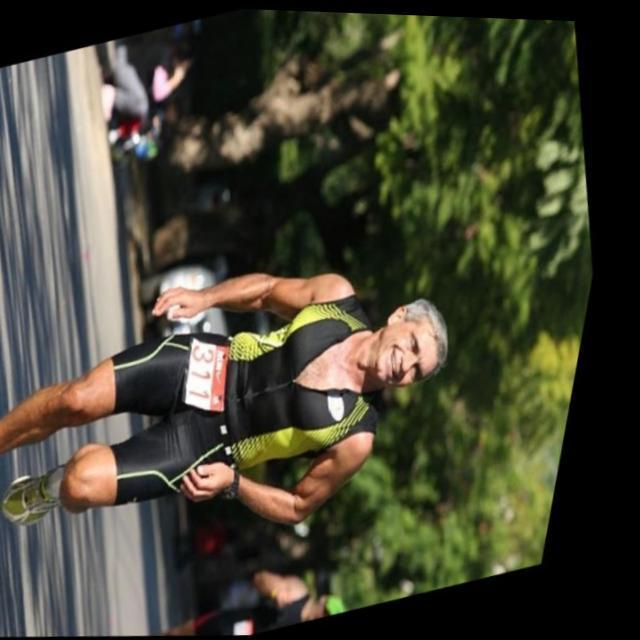dorsal: (176, 325, 265, 428)
